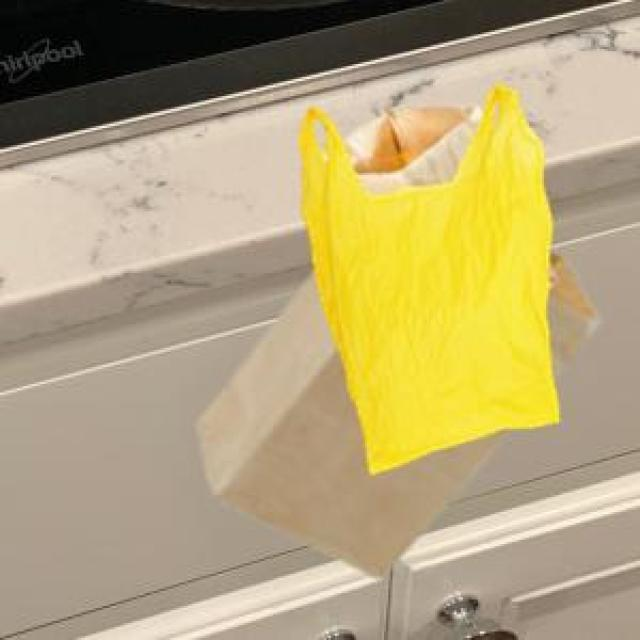paper: (194, 248, 593, 574), (337, 102, 550, 284)
